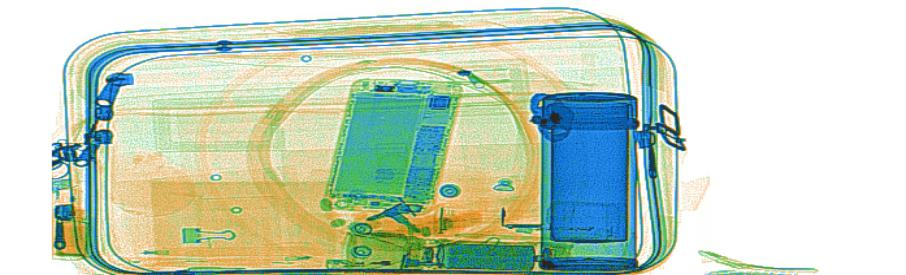battery: (435, 239, 538, 273)
lighter: (325, 250, 445, 269)
